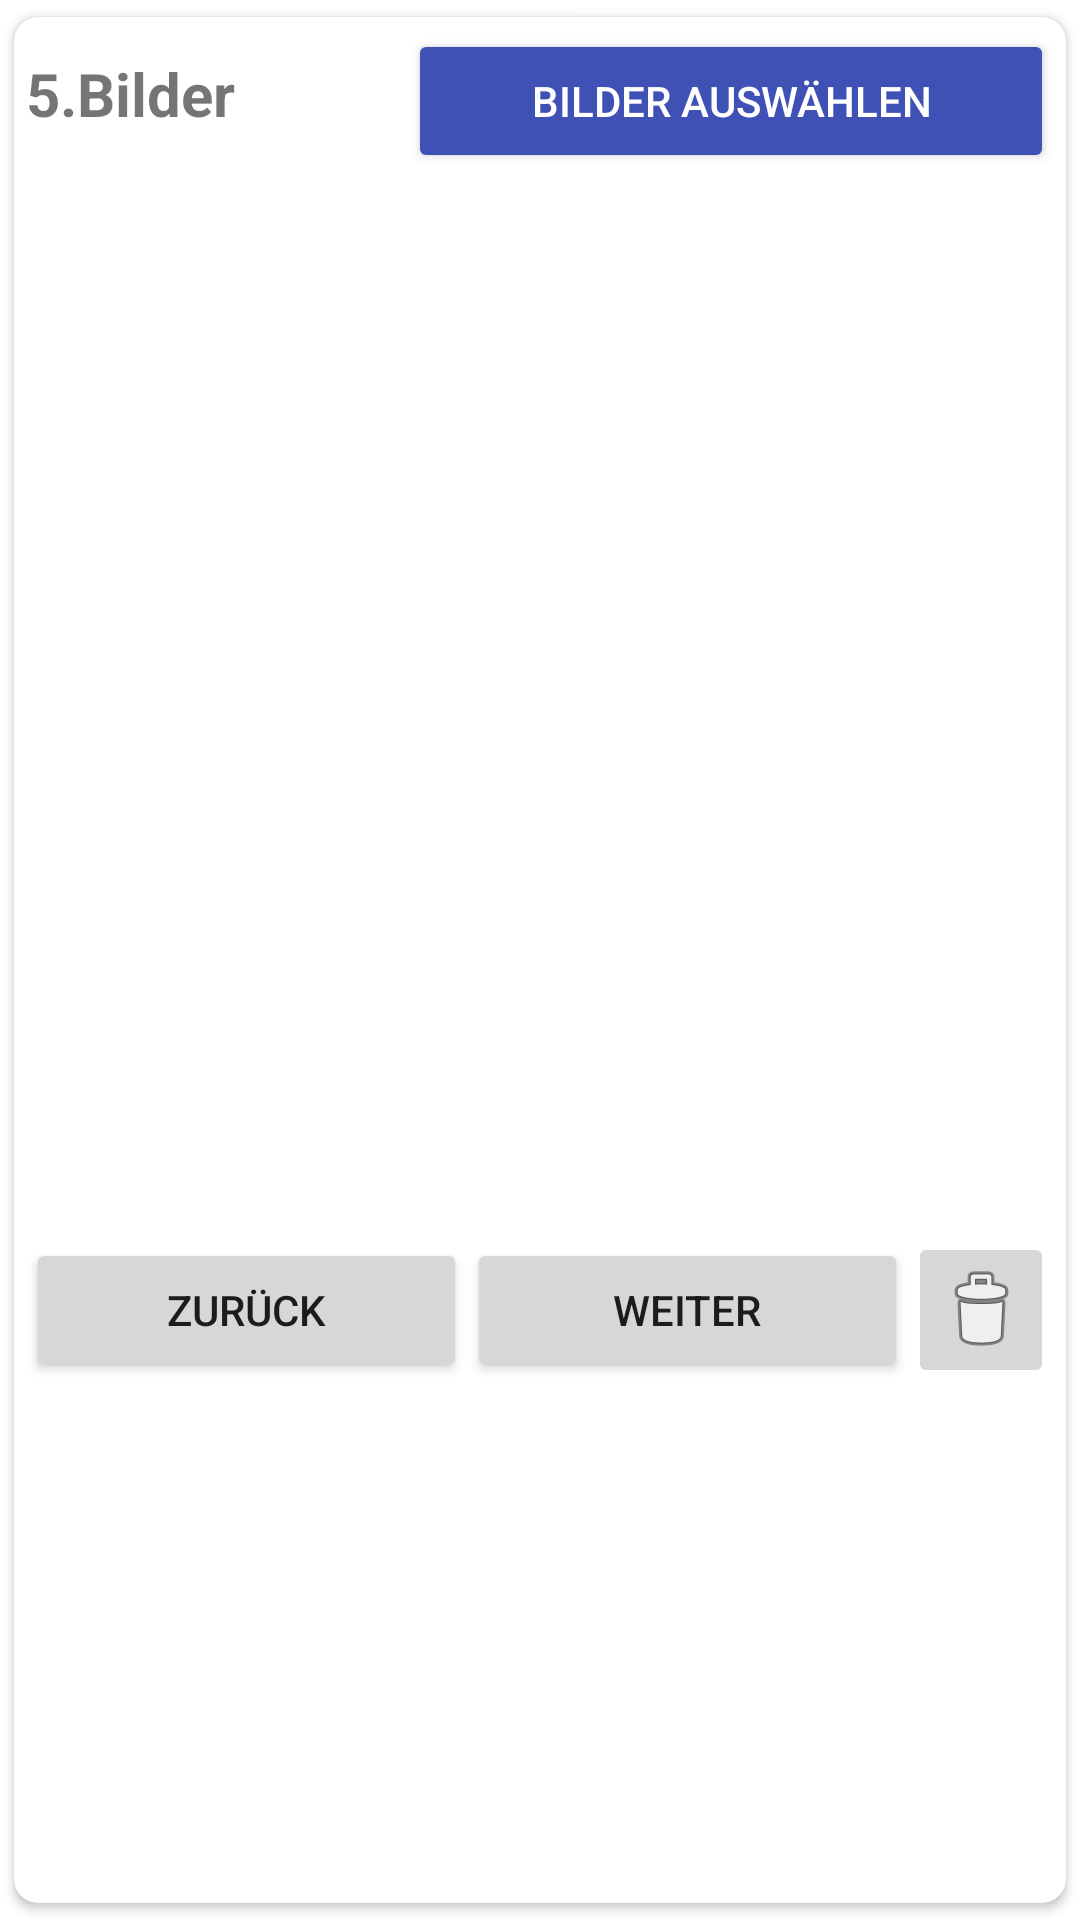

Icon bounding boxes for this 1080x1920 phone screenshot, format [left=x1, top=y1, right=x2, bottom=y2]:
delete: [left=920, top=1250, right=1042, bottom=1370]
